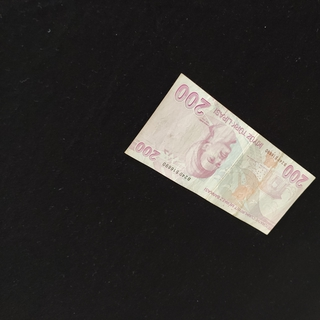200TLBack: (124, 72, 315, 235)
